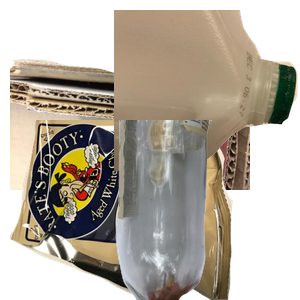cardboard: (10, 57, 250, 237)
glass: (113, 120, 300, 300)
plastic: (114, 10, 300, 179)
trash: (10, 120, 235, 300)
